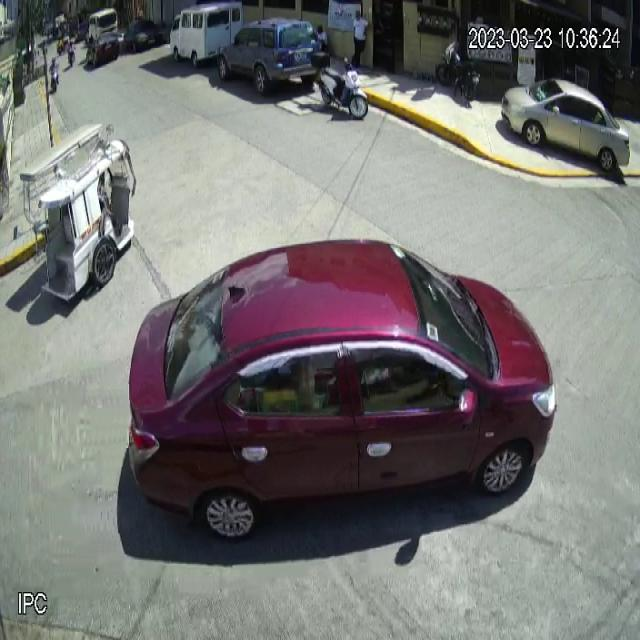Car: (127, 237, 558, 542), (501, 79, 631, 172), (217, 16, 322, 96)
Motorcycle: (311, 52, 369, 121)
Tricycle: (20, 117, 137, 303)
Van: (170, 0, 243, 67)
